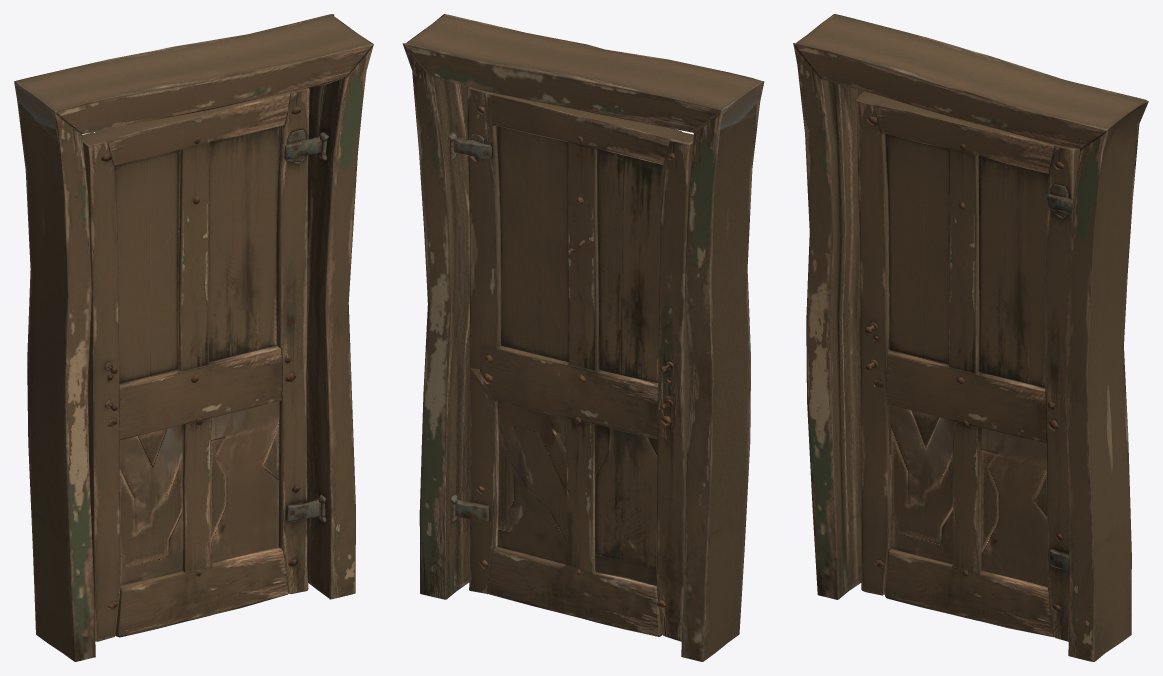
File: Meshy_AI_warped_janitor_s_closet_door_0903105738_texture.glb
The picture shows the model from 3 angles, left to right: view 1: azimuth 30°, elevation 25°; view 2: azimuth 150°, elevation 25°; view 3: azimuth 330°, elevation 25°; orthographic projection.
Parts seen in each view (by area): view 1: mesh_node; view 2: mesh_node; view 3: mesh_node.
Part boxes in pixels (left/top/right/bottom): mesh_node: left=14, top=14, right=373, bottom=661; mesh_node: left=402, top=14, right=764, bottom=661; mesh_node: left=793, top=14, right=1148, bottom=661.
Size of the model in its own units: 0.6035 by 1 by 0.1357.
Materials: 1 (1 with a texture image).
